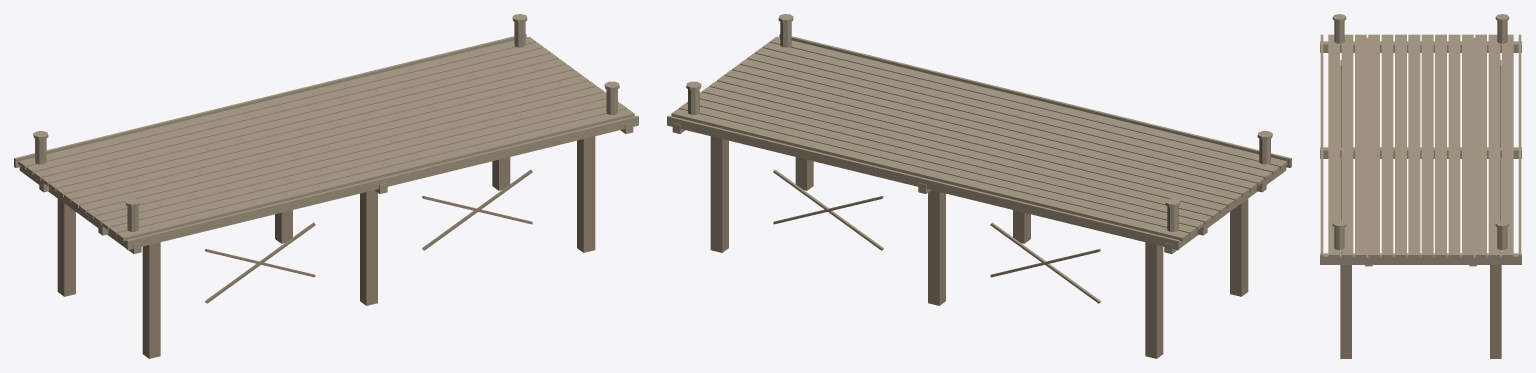
Rendered from cp_boat_landing.glb.
3 renders of one model, left to right at view 1: azimuth 30°, elevation 25°; view 2: azimuth 150°, elevation 25°; view 3: azimuth 270°, elevation 25°, orthographic. The views are drawn at different scales.
Visible parts, largest first — view 1: BoatLanding; view 2: BoatLanding; view 3: BoatLanding.
Boxes of the visible parts, x1,y1,x2,y2 form: BoatLanding: [14, 14, 638, 358]; BoatLanding: [667, 14, 1291, 358]; BoatLanding: [1320, 14, 1521, 358].
Bounding box in the file's own units: 8 × 2.42 × 3.1.
